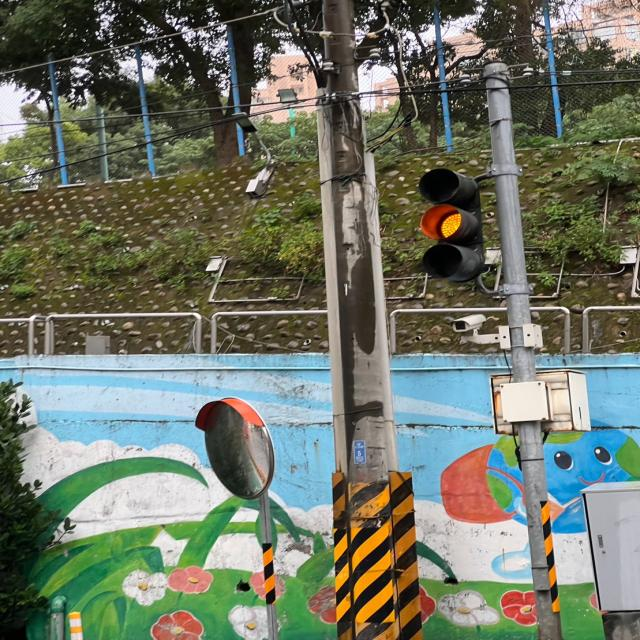yellow light: (413, 167, 486, 284)
